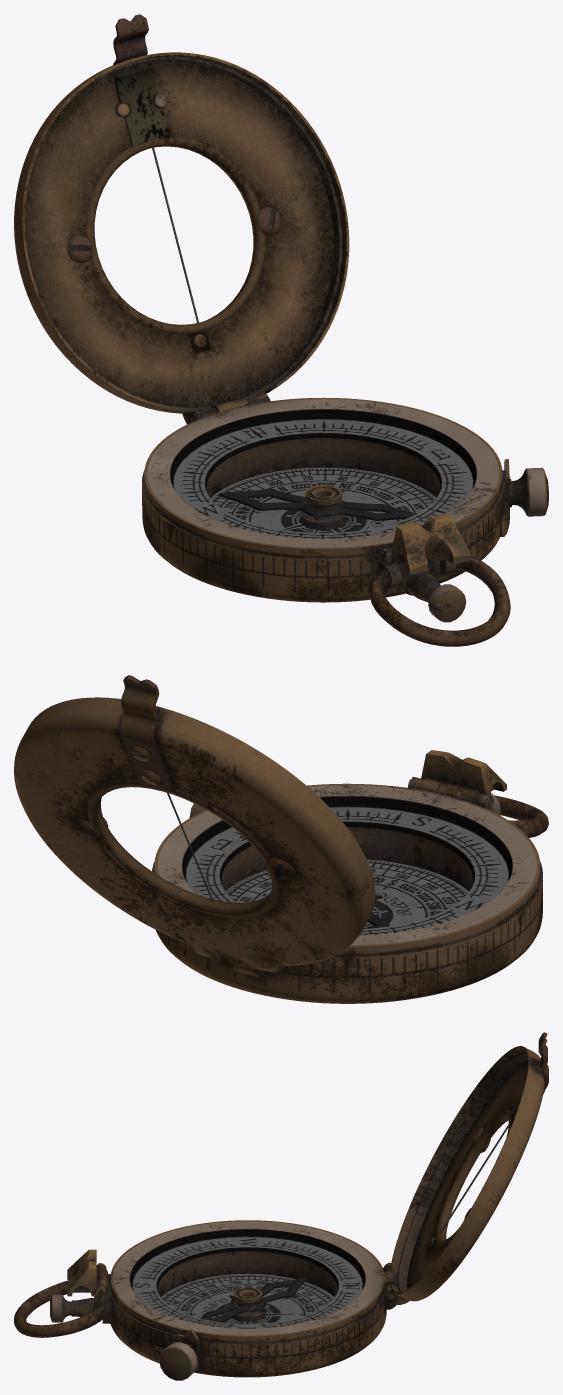
Rendered from item_seadogs_compass.glb.
The picture shows the model from 3 angles, top to bottom: view 1: azimuth 30°, elevation 25°; view 2: azimuth 150°, elevation 25°; view 3: azimuth 270°, elevation 25°; orthographic projection. The views are drawn at different scales.
Visible parts, largest first — view 1: seadogs_compass_lid, seadogs_compass, seadogs_compass_needle; view 2: seadogs_compass_lid, seadogs_compass; view 3: seadogs_compass, seadogs_compass_lid, seadogs_compass_needle.
Part boxes in pixels (bbox=[...]): seadogs_compass_lid: bbox=[14, 14, 349, 424]; seadogs_compass: bbox=[142, 397, 548, 646]; seadogs_compass_needle: bbox=[219, 488, 415, 520]; seadogs_compass_lid: bbox=[14, 675, 375, 972]; seadogs_compass: bbox=[152, 750, 548, 1003]; seadogs_compass: bbox=[14, 1220, 397, 1380]; seadogs_compass_lid: bbox=[382, 1032, 548, 1305]; seadogs_compass_needle: bbox=[201, 1278, 306, 1322].
Bounding box in the file's own units: 0.0813 × 0.0866 × 0.1441.
Materials: 1 (1 with a texture image).
